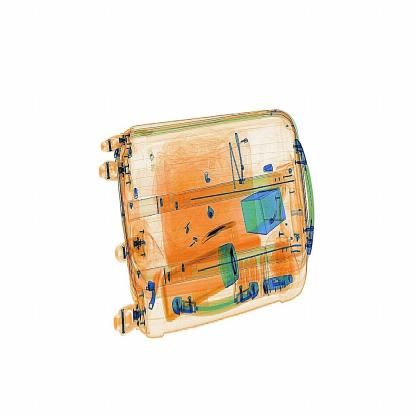wrench: (198, 222, 240, 238)
